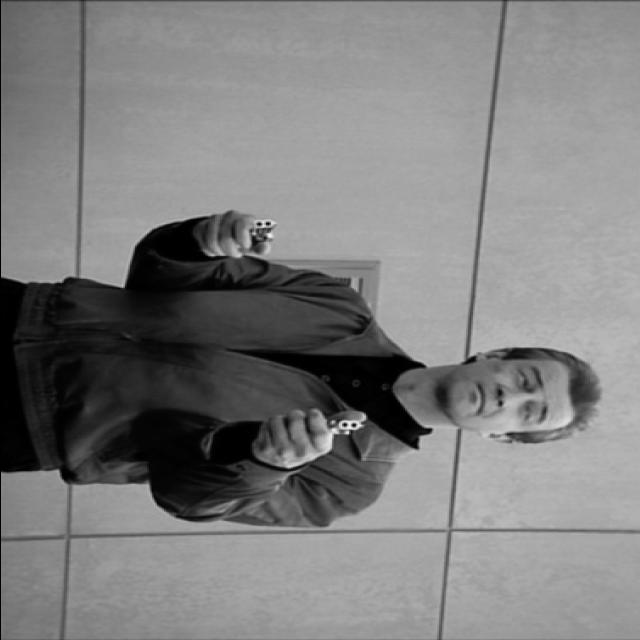weapons: (272, 396, 388, 457)
